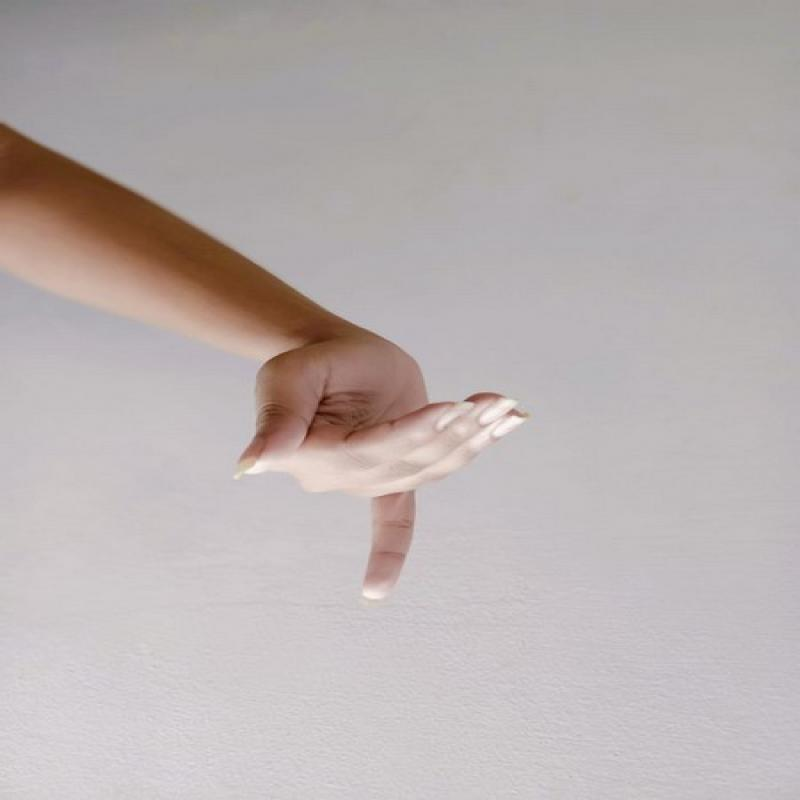Kartharee Mukham: (217, 318, 538, 612)
